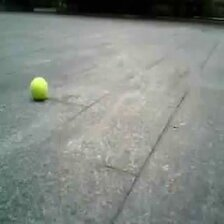tennis: (31, 77, 48, 98)
